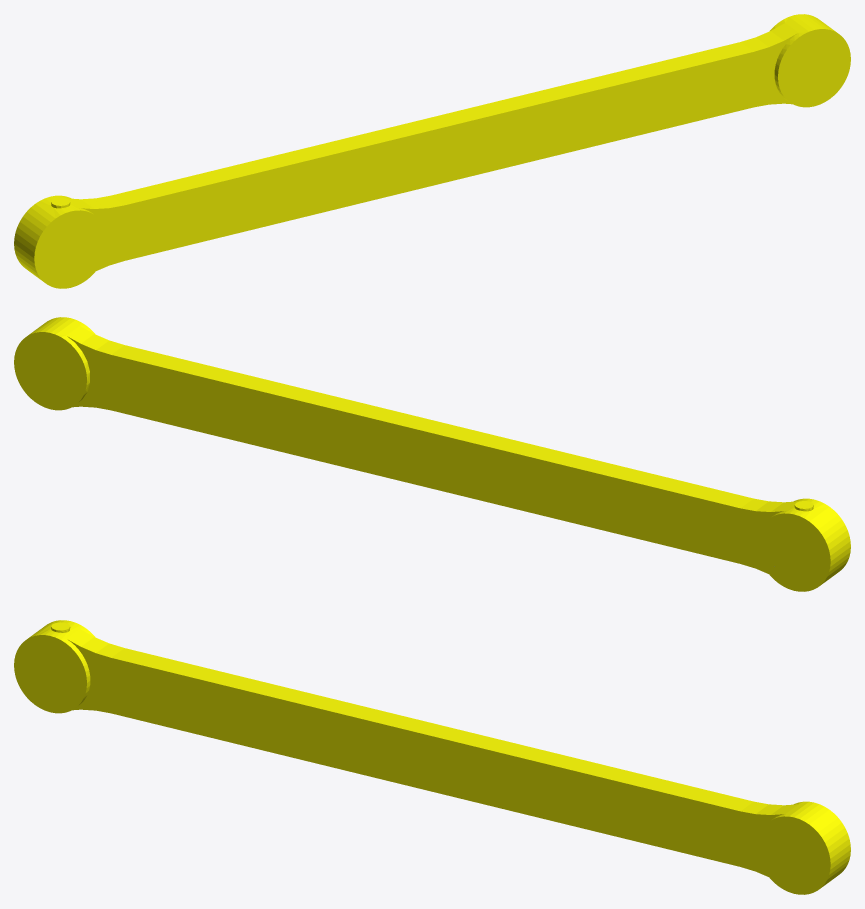
3 views of the same model, one above another, from view 1: azimuth 30°, elevation 25°; view 2: azimuth 150°, elevation 25°; view 3: azimuth 330°, elevation 25° (orthographic).
Parts seen in each view (by area): view 1: node; view 2: node; view 3: node.
Boxes of the visible parts, x1,y1,x2,y2 form: node: [14, 14, 850, 288]; node: [14, 317, 850, 591]; node: [14, 620, 850, 894].
Size of the model in its own units: 1230 by 116 by 104.
